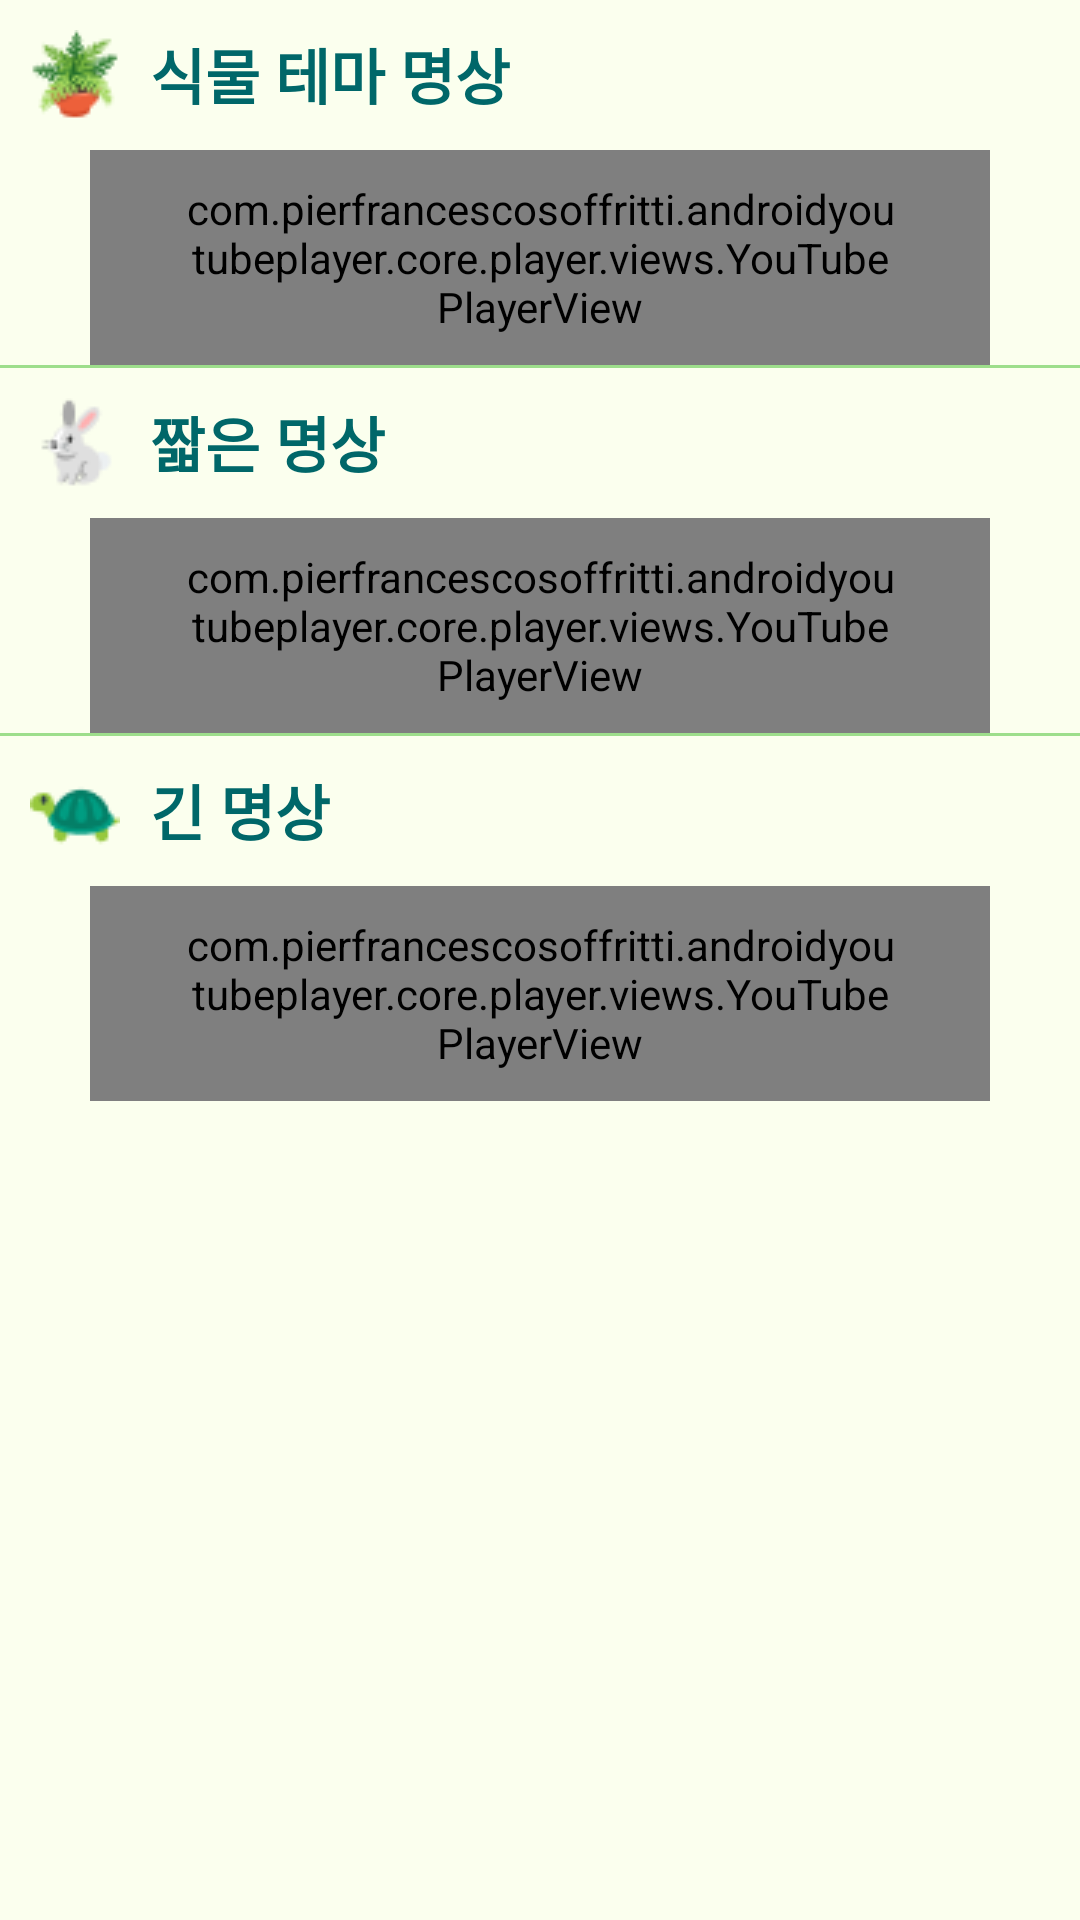

Point at icon controls on the screen. Image size 1080×1920, points as (x,y).
planttheme: (75,74)
rabbit: (71,442)
turtle: (75,816)
